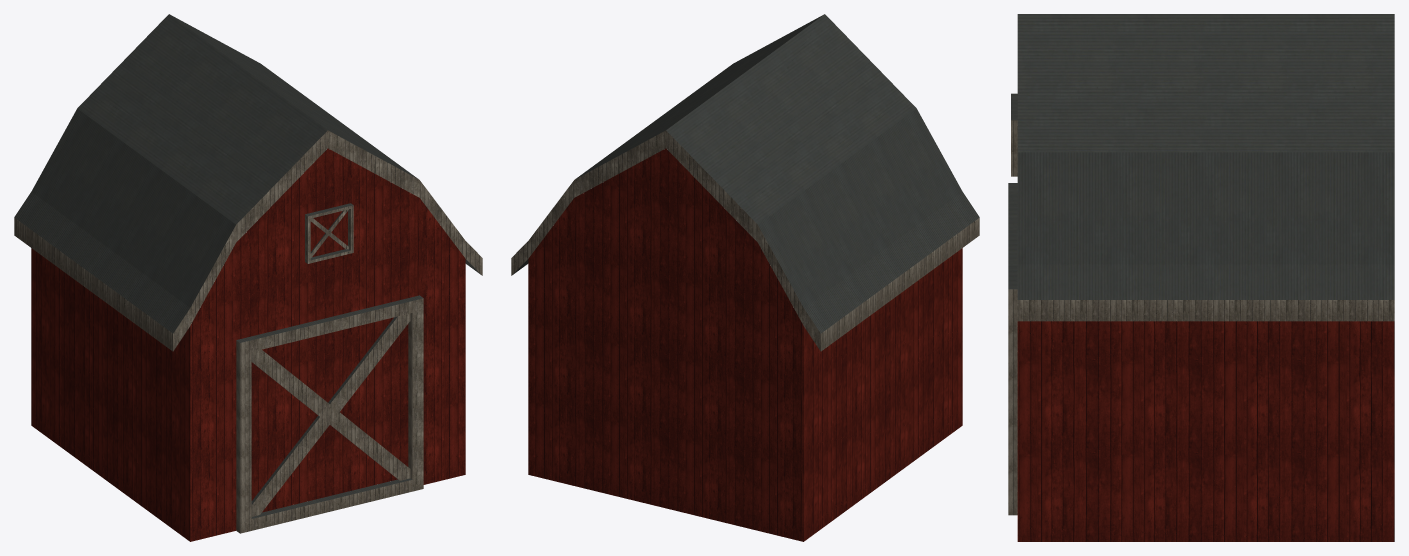
File: barn_red.glb
3 views of the same model, side by side, from view 1: azimuth 30°, elevation 25°; view 2: azimuth 150°, elevation 25°; view 3: azimuth 270°, elevation 25° (orthographic). The views are drawn at different scales.
Parts seen in each view (by area): view 1: walls, roof, trim; view 2: walls, roof, trim; view 3: roof, walls, trim.
Part boxes in pixels (left/top/right/bottom): walls: left=31, top=148, right=465, bottom=541; roof: left=14, top=14, right=480, bottom=518; trim: left=14, top=130, right=482, bottom=533; walls: left=528, top=148, right=962, bottom=541; roof: left=513, top=14, right=979, bottom=333; trim: left=511, top=130, right=979, bottom=351; roof: left=1008, top=14, right=1394, bottom=299; walls: left=1017, top=321, right=1394, bottom=541; trim: left=1008, top=120, right=1394, bottom=515.
Bounding box in the file's own units: 9.9 × 11.55 × 9.02.
3 materials, 3 textured.
